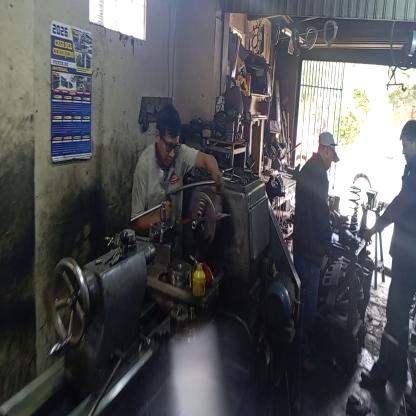lentes: (156, 132, 185, 156)
